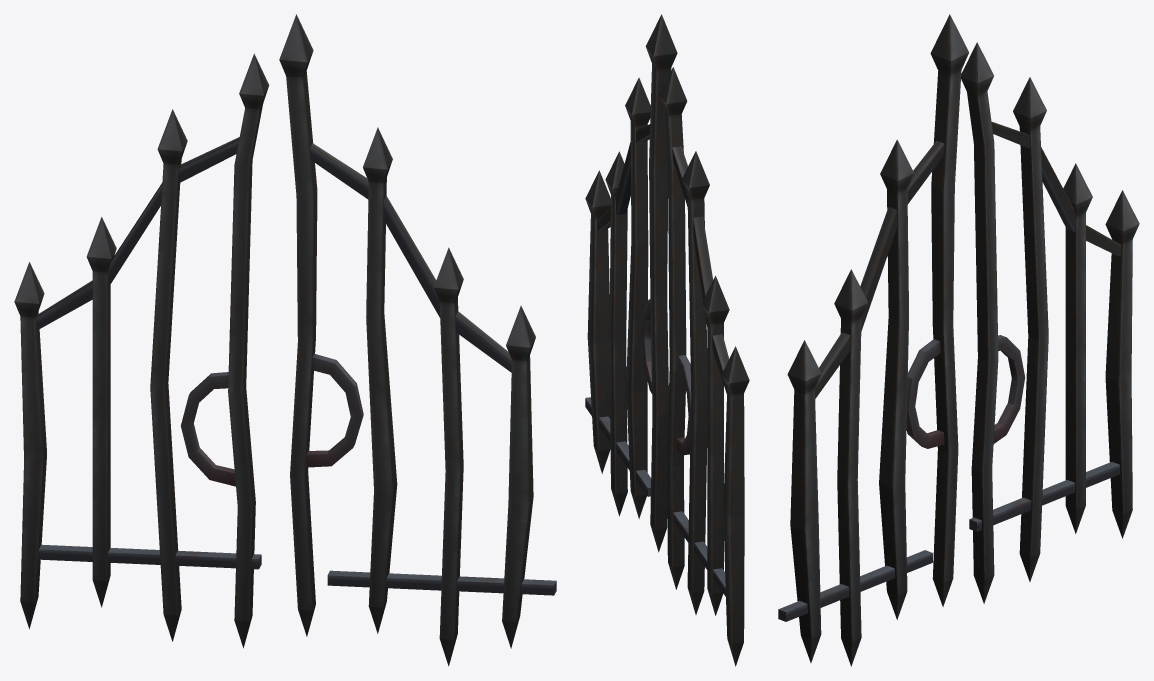
The model's file is Area14_13.fbx.
3 views of the same model, side by side, from view 1: azimuth 30°, elevation 25°; view 2: azimuth 150°, elevation 25°; view 3: azimuth 270°, elevation 25° (orthographic). The views are drawn at different scales.
Parts seen in each view (by area): view 1: Area14_13; view 2: Area14_13; view 3: Area14_13.
Boxes of the visible parts, left/top/right/bottom form: Area14_13: left=14, top=14, right=556, bottom=666; Area14_13: left=585, top=14, right=749, bottom=666; Area14_13: left=778, top=14, right=1139, bottom=666.
Size of the model in its own units: 500 by 835 by 451.
